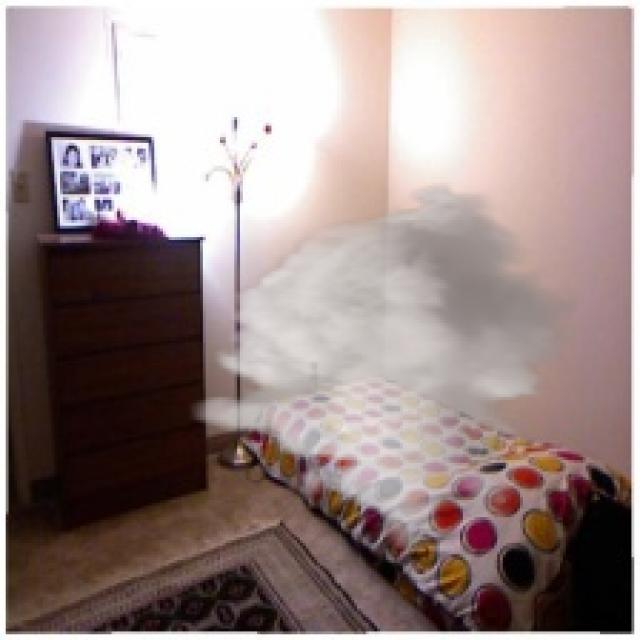smoke: (185, 180, 586, 551)
